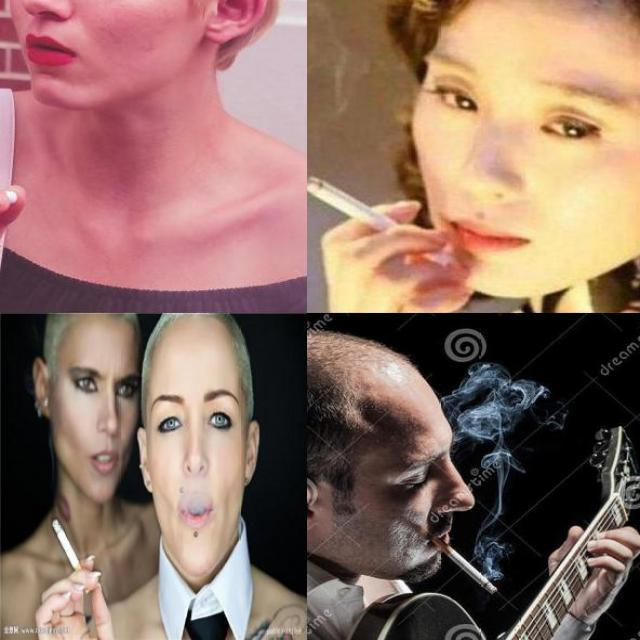rokok: (307, 174, 441, 262), (424, 525, 500, 599), (51, 516, 90, 596), (0, 180, 24, 212)
